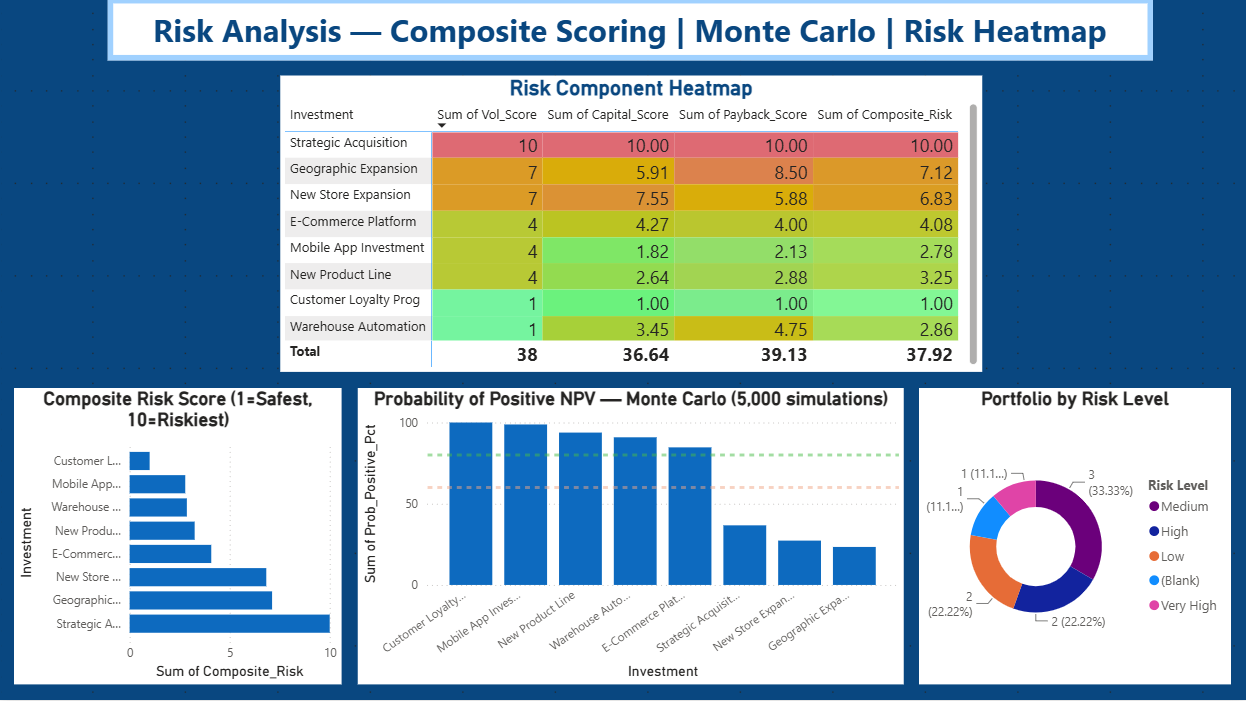

What the dashboard file says about the page in this screenshot:
{"tool":"powerbi","page":{"name":"Risk Analysis","canvas":[1280,720],"ordinal":2},"visuals":[{"type":"pivotTable","title":"Risk Component Heatmap","fields":{"Rows":["risk_scores.Investment"],"Values":["Sum(risk_scores.Vol_Score)","Sum(risk_scores.Capital_Score)","Sum(risk_scores.Payback_Score)","Sum(risk_scores.Composite_Risk)"]},"box":[288,80,720,304],"z":0},{"type":"clusteredBarChart","title":"Composite Risk Score      (1=Safest, 10=Riskiest)","fields":{"Category":["risk_scores.Investment"],"Y":["Sum(risk_scores.Composite_Risk)"]},"box":[16,400,336,304],"z":1000},{"type":"clusteredColumnChart","title":"Probability of Positive NPV — Monte Carlo (5,000 simulations)","fields":{"Category":["monte_carlo_results.Investment"],"Y":["Sum(monte_carlo_results.Prob_Positive_Pct)"]},"box":[368,400,560,304],"z":2000},{"type":"donutChart","title":"Portfolio by Risk Level","fields":{"Category":["Investment_Data.Risk Level"],"Y":["CountNonNull(Investment_Data.Investment Name)"]},"box":[944,400,320,304],"z":3000},{"type":"textbox","box":[112,0,1072,64],"z":4000}]}

Visuals, with their boxes in screenshot pixels (x1, y1, x2, y2), scaled from the page's 1280x720 canvas onto the 1246x701 screenshot:
"Risk Component Heatmap" pivotTable: <bbox>280, 78, 981, 374</bbox>
"Composite Risk Score      (1=Safest, 10=Riskiest)" clusteredBarChart: <bbox>16, 389, 343, 685</bbox>
"Probability of Positive NPV — Monte Carlo (5,000 simulations)" clusteredColumnChart: <bbox>358, 389, 903, 685</bbox>
"Portfolio by Risk Level" donutChart: <bbox>919, 389, 1230, 685</bbox>
textbox: <bbox>109, 0, 1153, 62</bbox>
